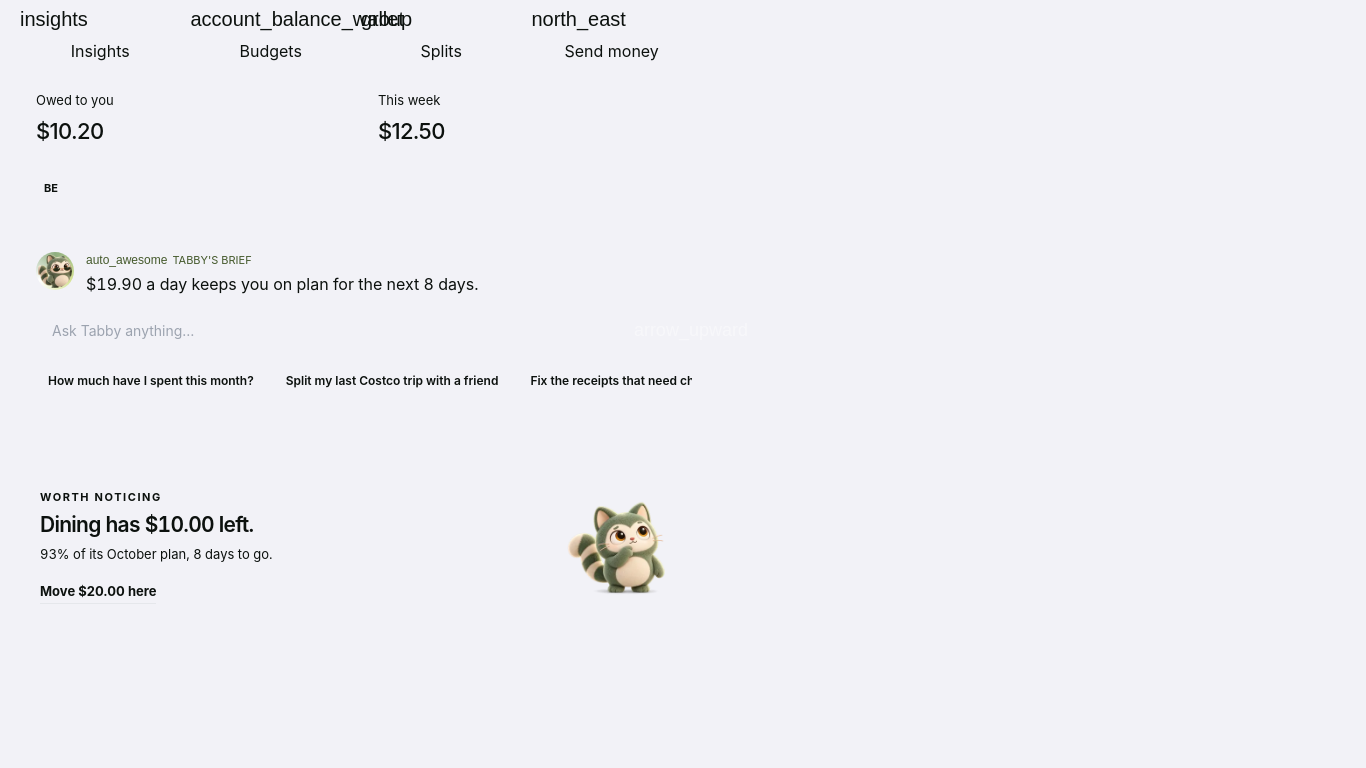
Test: Today › puts the first plan back if the second can't change
(page scrolled)
Click the button "Move $20.00 here": (98, 593) top-left (40, 582), bottom-right (156, 604)
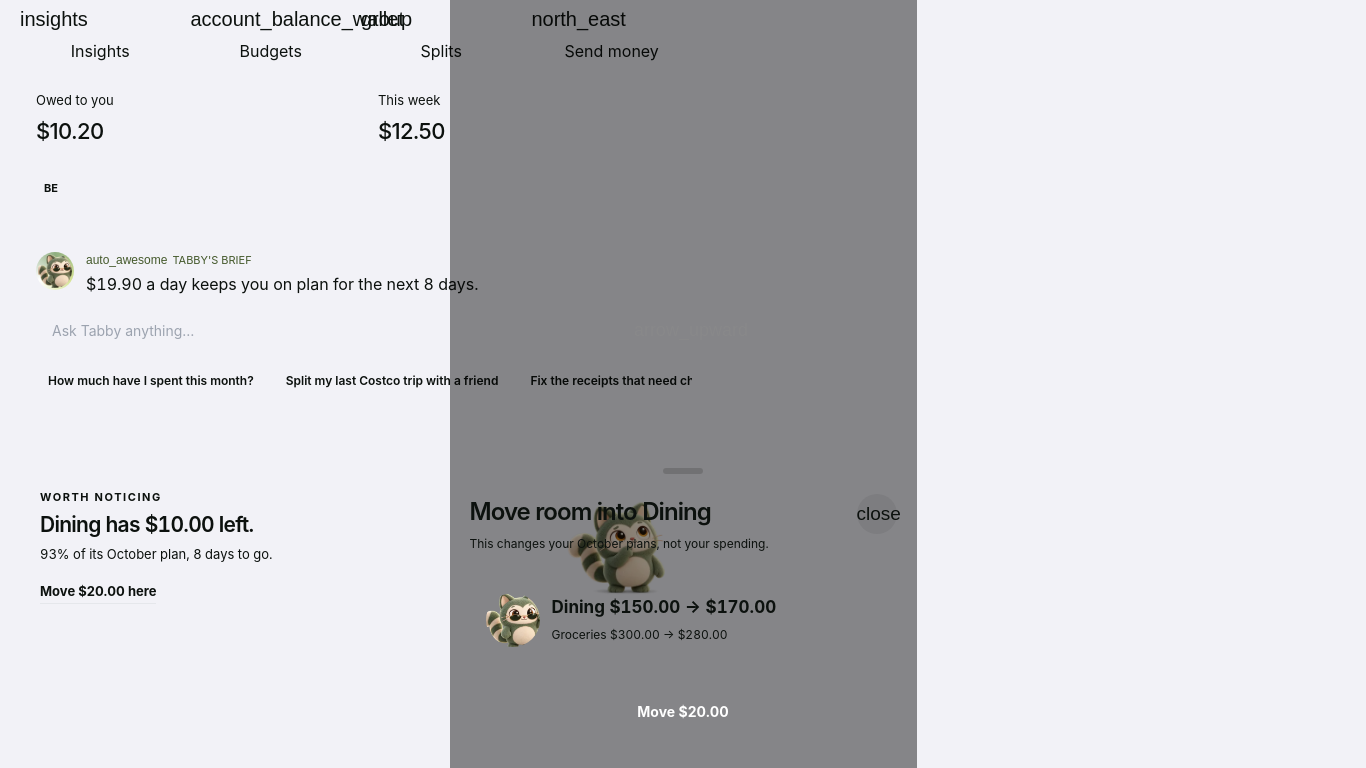
Click the button "Move $20.00": (683, 712) top-left (470, 687), bottom-right (896, 736)
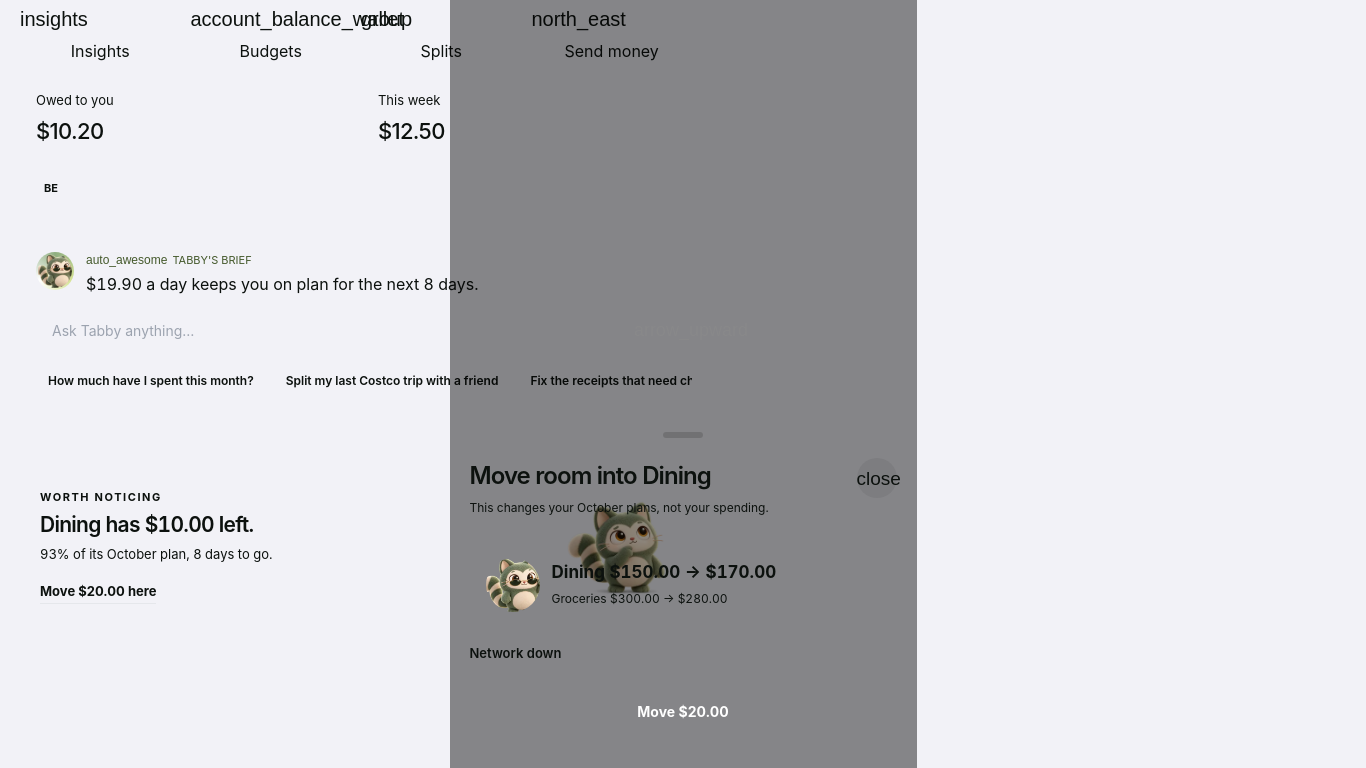
Check: the message reads "Network down", box top-left (470, 644), bottom-right (562, 660)
